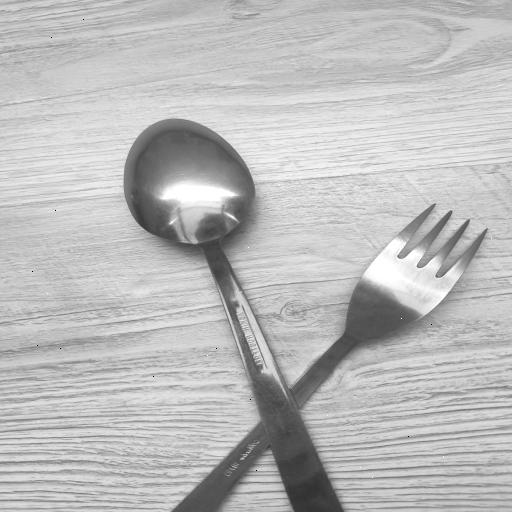fork: (164, 196, 487, 512)
spoon: (120, 113, 340, 512)
